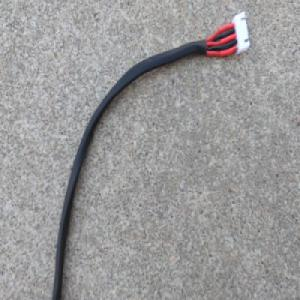Wire: (51, 8, 250, 300)
